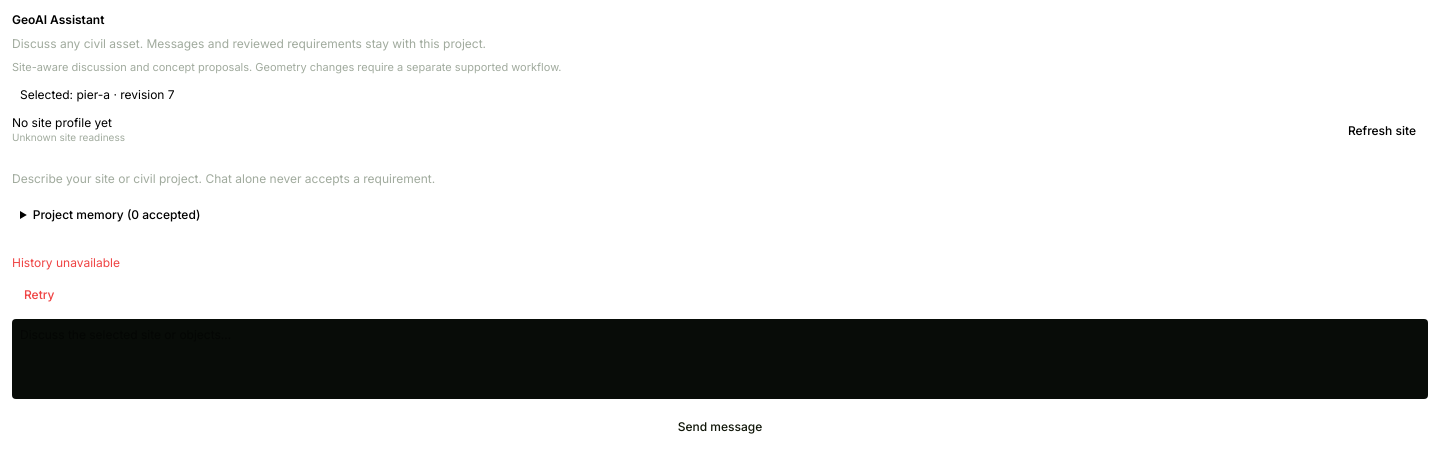
persistent project Assistant › offers a retry when loading conversation history fails
This screenshot has width=1440, height=451.
Check: the text "History unavailable" is shown, box [12,255,120,270]
Click the button "Retry" at (39, 295), box [12,279,66,311]
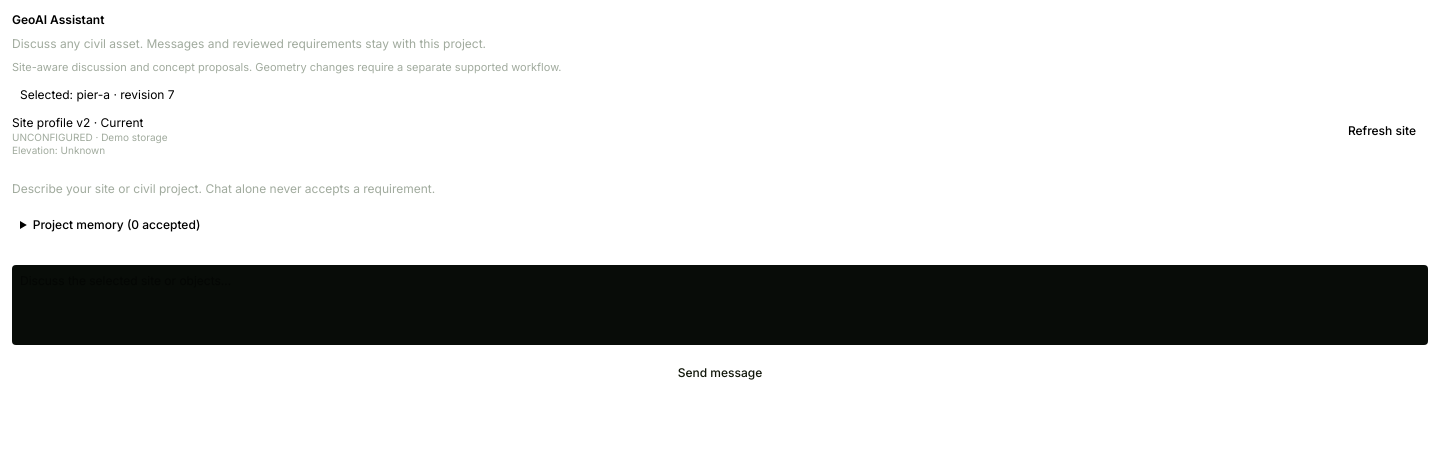
Check: the button "Refresh site" is enabled, box [1336,115,1428,147]
Check: the text "Site profile v2 · Current" is shown, box [12,115,143,130]
Check: the text "History unavailable" is gone
